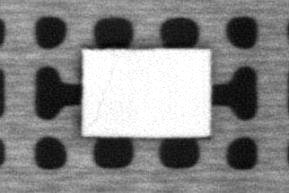DIE_CRACK: (91, 60, 117, 124)
